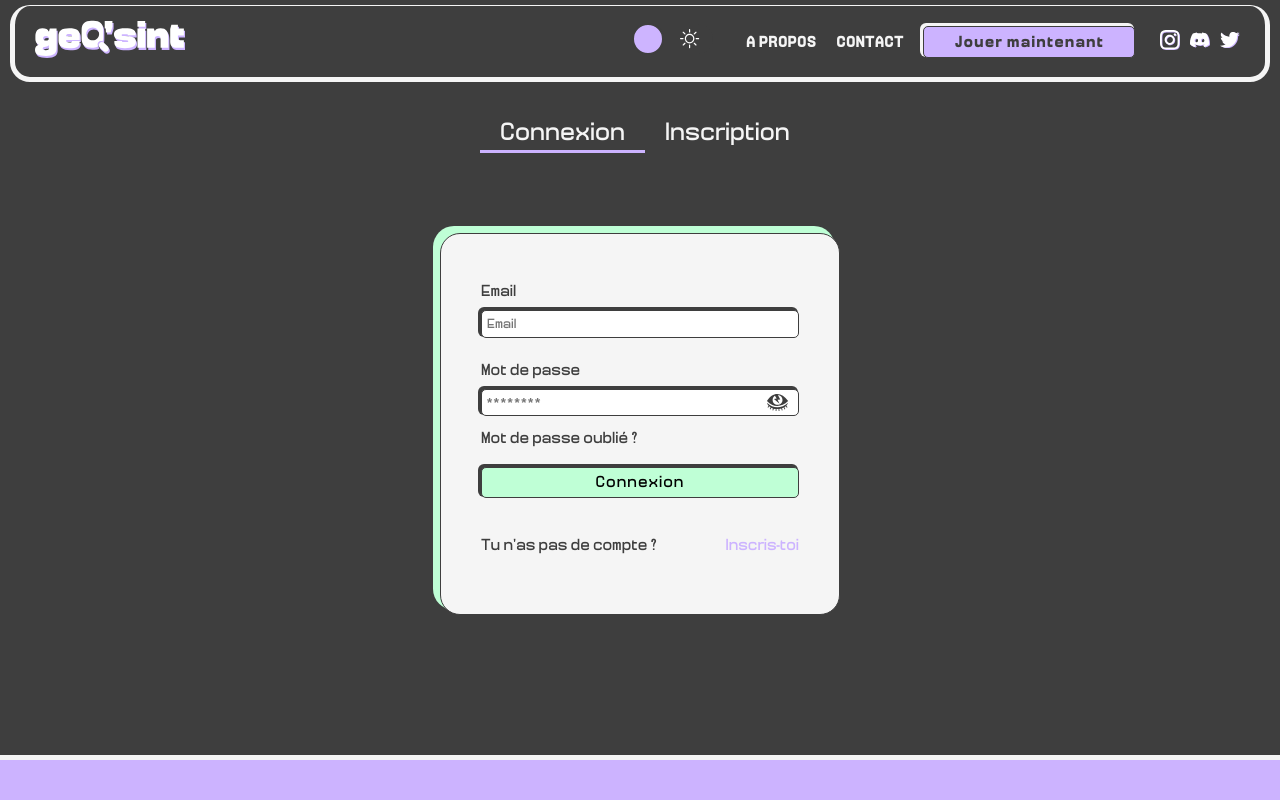
it: Login › shows an error message with invalid credentials
The image size is (1280, 800).
// Fill in the form fields with invalid credentials
In the field labelled "Email": (640, 324) x1=481 y1=310 x2=799 y2=338, type "invalid@example.com"
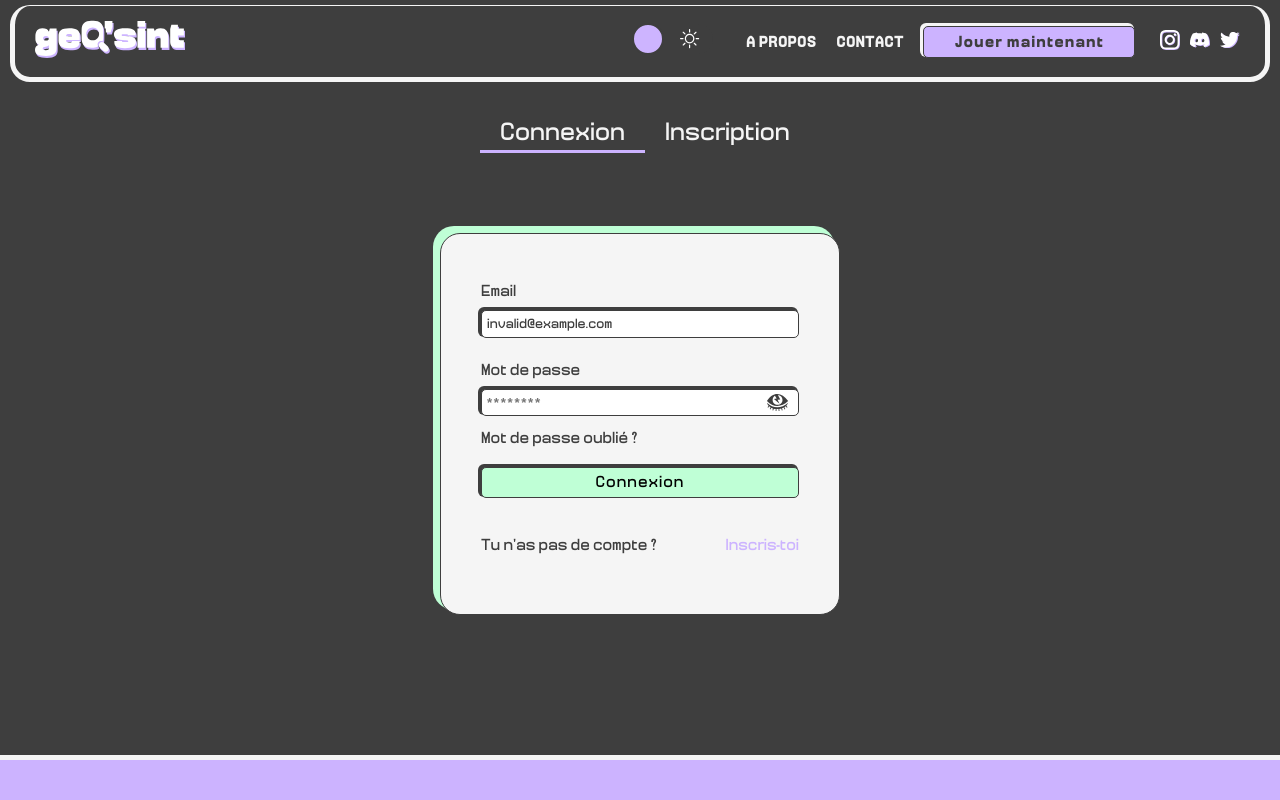
In the password field labelled "Mot de passe": (640, 402) x1=481 y1=389 x2=799 y2=416, type "wrongpassword"
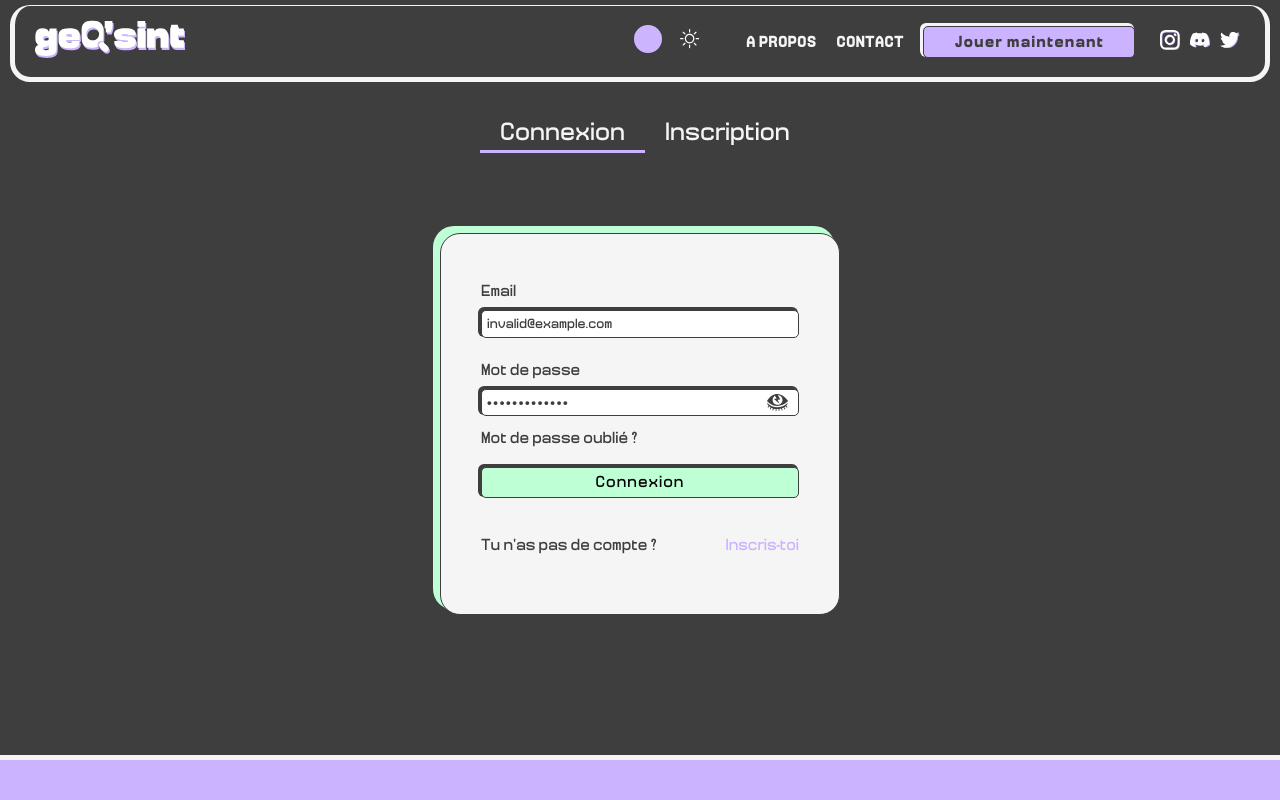
// Submit the form
Click the button "Connexion": (640, 482) x1=481 y1=467 x2=799 y2=498
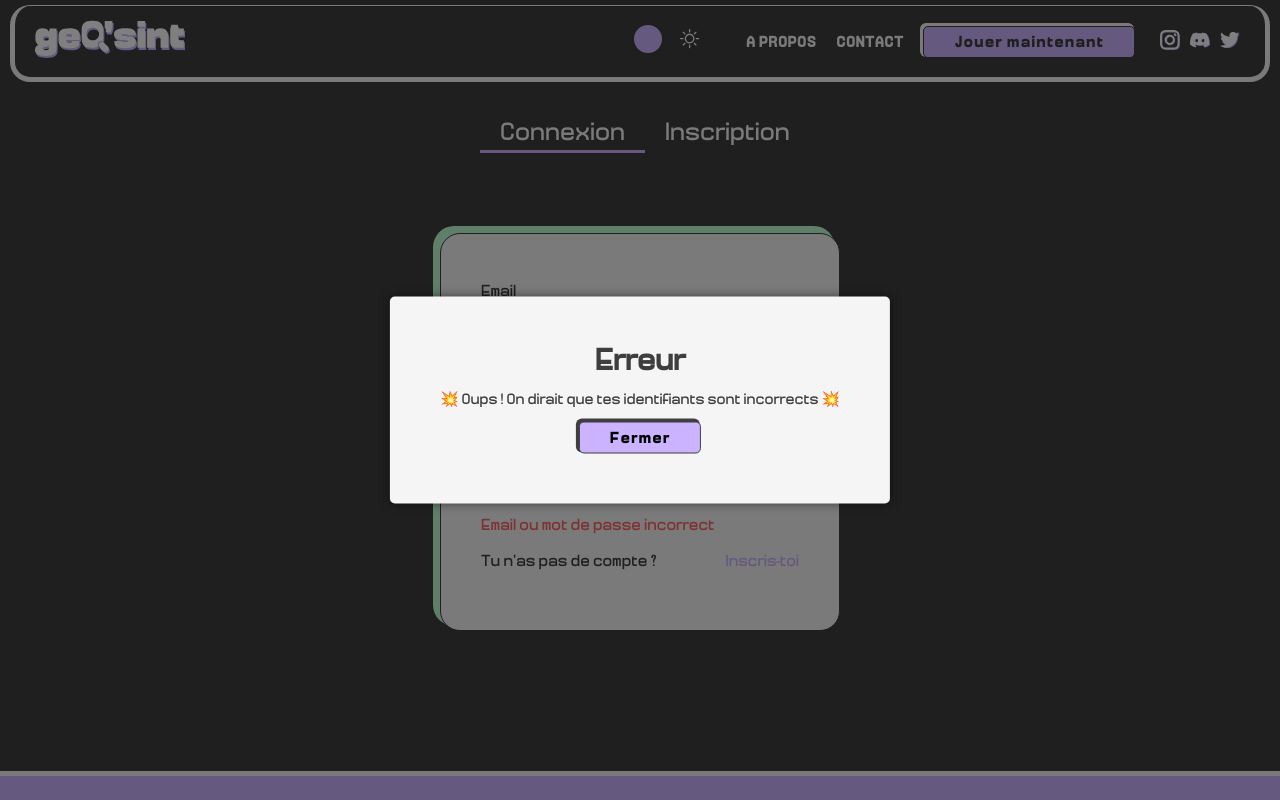
Result: the text "Email ou mot de passe incorrect" is shown at x1=481 y1=518 x2=714 y2=534
